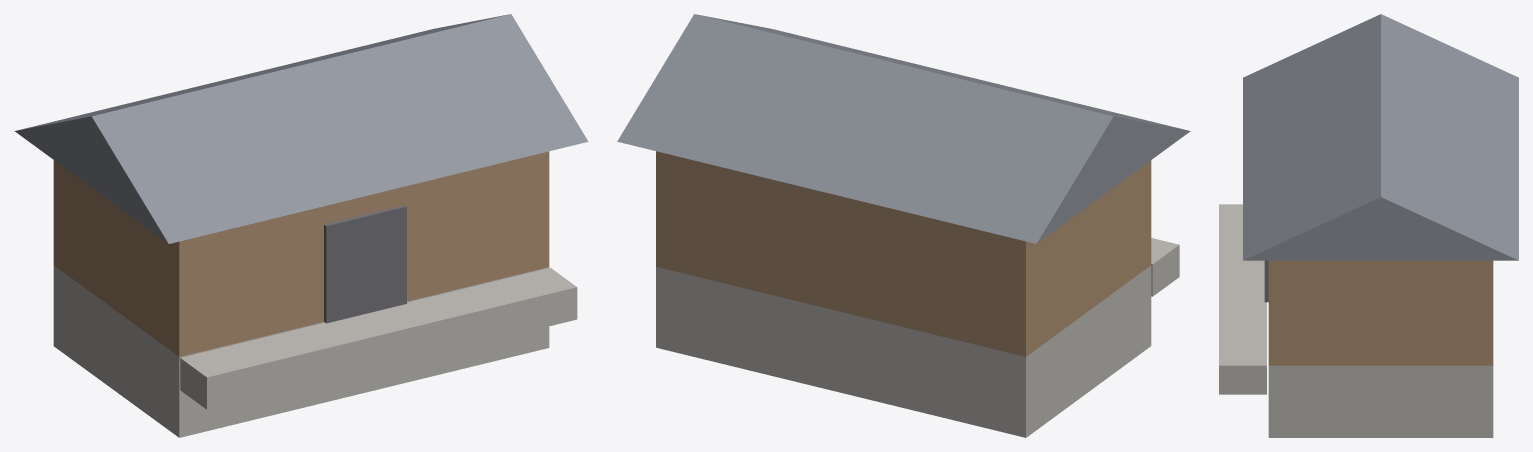
Rendered from kandern-gueterhalle.glb.
3 renders of one model, left to right at view 1: azimuth 30°, elevation 25°; view 2: azimuth 150°, elevation 25°; view 3: azimuth 270°, elevation 25°, orthographic. The views are drawn at different scales.
Visible parts, largest first — view 1: building; view 2: building; view 3: building.
Part boxes in pixels (<box>): building: <box>14,14,588,437</box>; building: <box>617,14,1190,437</box>; building: <box>1219,14,1518,437</box>.
Size of the model in its own units: 13.56 by 8.7 by 9.39.
